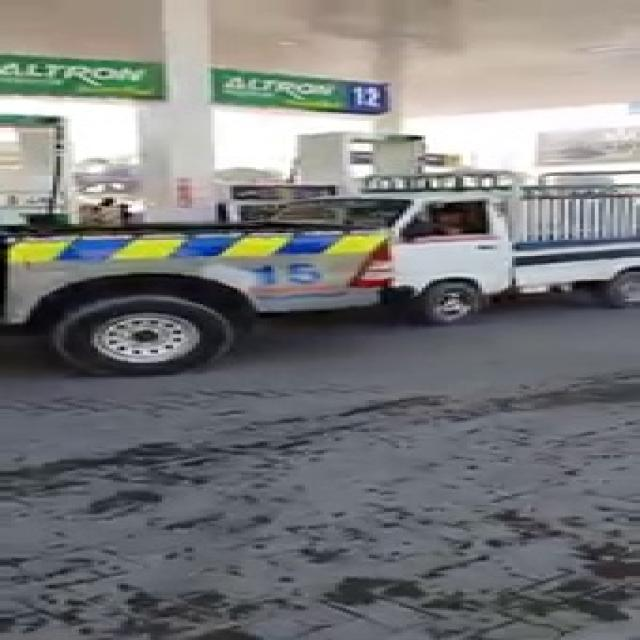police: (0, 164, 536, 383)
